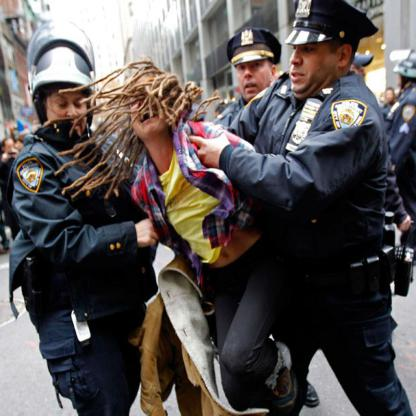face: (289, 28, 340, 94), (48, 86, 89, 138), (238, 54, 276, 101), (130, 90, 169, 132)
